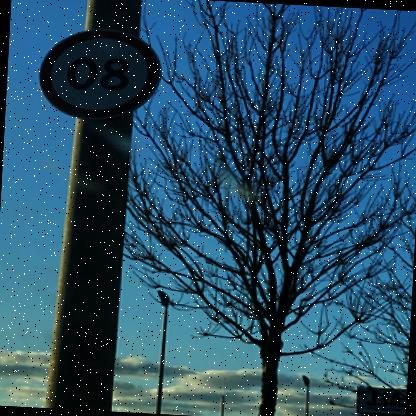speedlimit: (37, 24, 164, 121)
